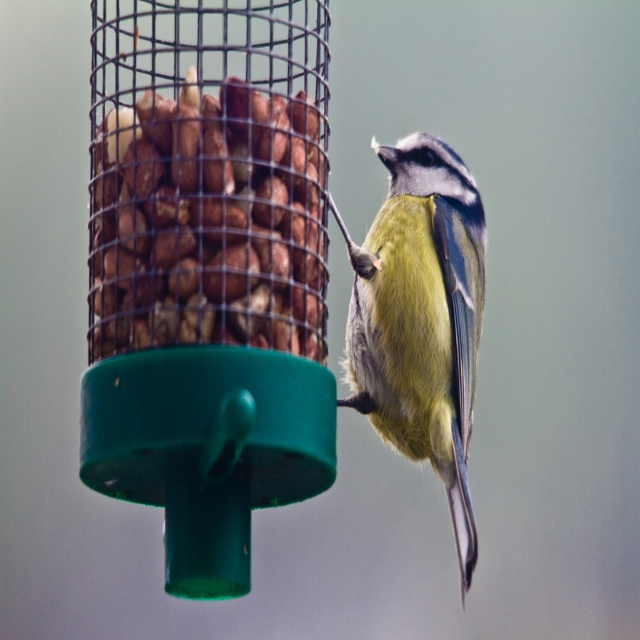Canary: (317, 128, 487, 611)
